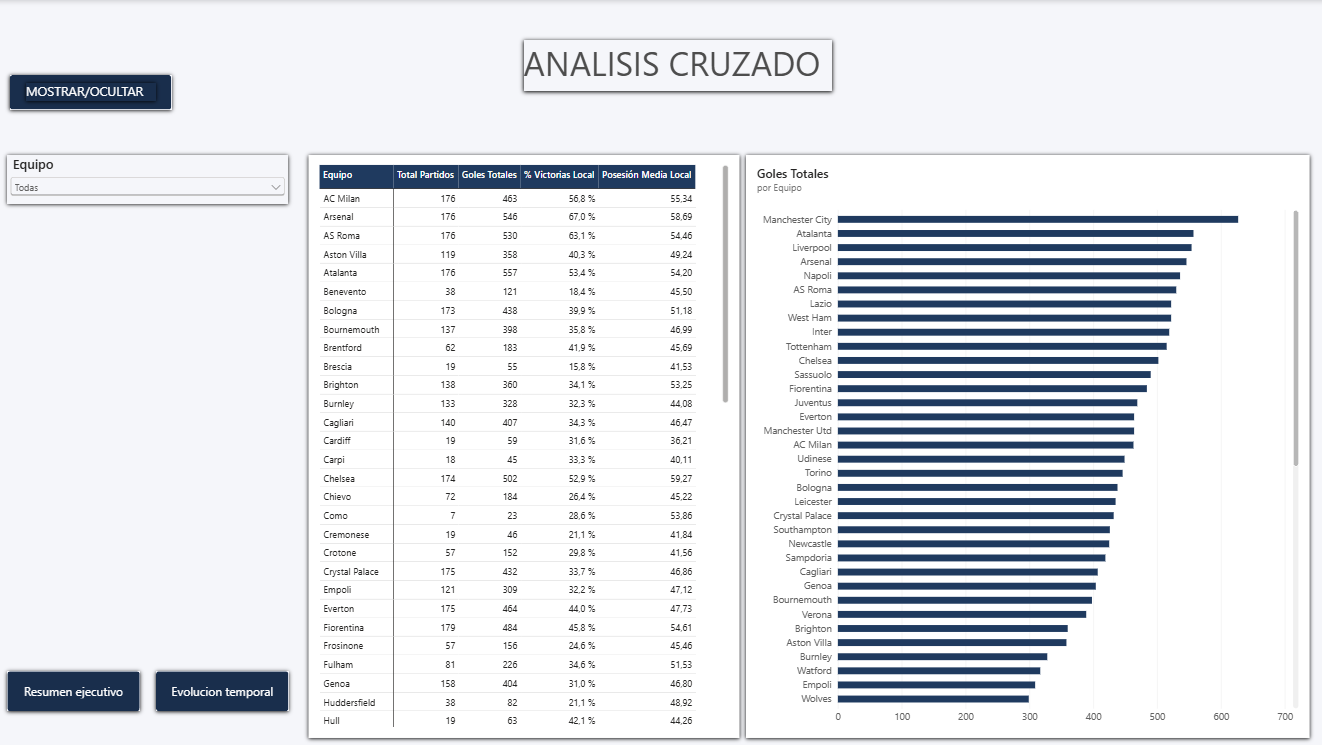

This screenshot's page, from the dashboard's own definition file:
{"tool":"powerbi","page":{"name":"Análisis cruzado Equipo × Liga","canvas":[1920,1080],"ordinal":2},"visuals":[{"type":"pivotTable","fields":{"Rows":["Dim_Equipo.Equipo"],"Values":["Medidas.Total Partidos","Medidas.Goles Totales","Medidas.% Victorias Local","Medidas.Posesión Media Local"]},"box":[452,224,624,844],"z":0},{"type":"barChart","fields":{"Category":["Dim_Equipo.Equipo"],"Y":["Medidas.Goles Totales"]},"box":[1086,224,816,844],"z":1000},{"type":"slicer","fields":{"Values":["Dim_Equipo.Equipo"]},"box":[16,224,406.7,70],"z":2000},{"type":"textbox","box":[763.7,57.9,447,74.2],"z":3000},{"type":"actionButton","box":[20,108,234,50],"z":3004},{"type":"textbox","box":[44,120,188,26],"z":3005},{"type":"actionButton","box":[16.3,971.8,191.8,57.9],"z":3006},{"type":"actionButton","box":[231.6,971.8,191.8,57.9],"z":3007}]}

Visuals, with their boxes in screenshot pixels (x1, y1, x2, y2), scaled from the page's 1920x1080 canvas onto the 1322x745 screenshot:
pivotTable - Dim_Equipo.Equipo x Medidas.Total Partidos: pyautogui.locateOnScreen(311, 155, 741, 737)
barChart - Dim_Equipo.Equipo x Medidas.Goles Totales: pyautogui.locateOnScreen(748, 155, 1310, 737)
slicer - Dim_Equipo.Equipo: pyautogui.locateOnScreen(11, 155, 291, 203)
textbox: pyautogui.locateOnScreen(526, 40, 834, 91)
actionButton: pyautogui.locateOnScreen(14, 74, 175, 109)
textbox: pyautogui.locateOnScreen(30, 83, 160, 101)
actionButton: pyautogui.locateOnScreen(11, 670, 143, 710)
actionButton: pyautogui.locateOnScreen(159, 670, 292, 710)
